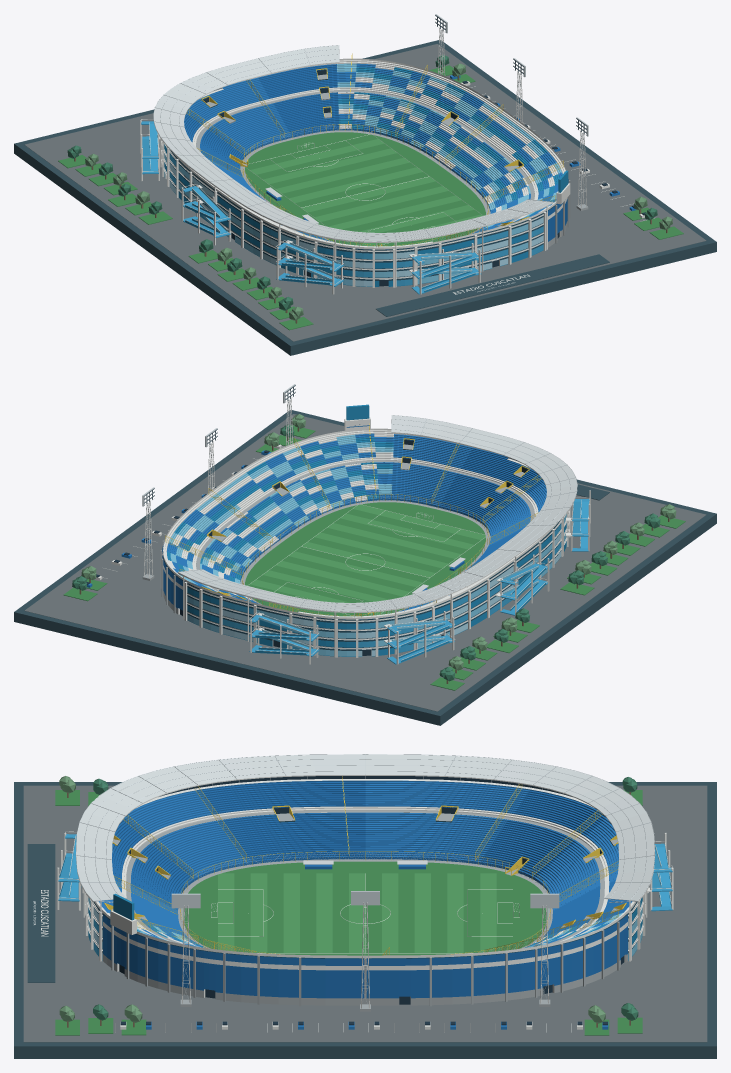
Rendered from cuscatlan-v5.glb.
3 views of the same model, one above another, from view 1: azimuth 30°, elevation 25°; view 2: azimuth 150°, elevation 25°; view 3: azimuth 270°, elevation 25° (orthographic). The views are drawn at different scales.
Visible parts, largest first — view 1: Pavimento.001, Blanco cal.001, Cesped verde.001, Base maqueta.001, Azul alterno.001, Cubierta aluminio.001, Celeste claro, Cesped corte alterno.001, Celeste intenso, Azul Cuscatlan.001, Celeste medio, Acero claro.001 (+7 smaller); view 2: Pavimento.001, Blanco cal.001, Cesped verde.001, Base maqueta.001, Azul alterno.001, Cubierta aluminio.001, Cesped corte alterno.001, Celeste claro, Celeste intenso, Azul Cuscatlan.001, Celeste medio, Acero claro.001 (+7 smaller); view 3: Pavimento.001, Azul Cuscatlan.001, Base maqueta.001, Azul alterno.001, Cesped verde.001, Cubierta aluminio.001, Blanco cal.001, Cesped corte alterno.001, Hormigon.001, Acero claro.001, Pasillos amarillos.001, Azul profundo.001 (+6 smaller).
Boxes of the visible parts, left/top/right/bottom form: Pavimento.001: left=24, top=44, right=706, bottom=341; Blanco cal.001: left=140, top=27, right=654, bottom=294; Cesped verde.001: left=58, top=65, right=683, bottom=330; Base maqueta.001: left=14, top=40, right=716, bottom=355; Azul alterno.001: left=187, top=63, right=636, bottom=249; Cubierta aluminio.001: left=153, top=45, right=551, bottom=292; Celeste claro: left=149, top=63, right=561, bottom=285; Cesped corte alterno.001: left=250, top=139, right=482, bottom=246; Celeste intenso: left=142, top=67, right=568, bottom=292; Azul Cuscatlan.001: left=184, top=64, right=568, bottom=249; Celeste medio: left=141, top=121, right=543, bottom=294; Acero claro.001: left=153, top=14, right=588, bottom=245; Pavimento.001: left=24, top=414, right=706, bottom=711; Blanco cal.001: left=95, top=397, right=590, bottom=664; Cesped verde.001: left=63, top=425, right=685, bottom=690; Base maqueta.001: left=14, top=410, right=716, bottom=725; Azul alterno.001: left=87, top=433, right=546, bottom=619; Cubierta aluminio.001: left=179, top=415, right=577, bottom=611; Cesped corte alterno.001: left=250, top=504, right=485, bottom=615; Celeste claro: left=169, top=434, right=581, bottom=656; Celeste intenso: left=167, top=404, right=589, bottom=662; Azul Cuscatlan.001: left=162, top=425, right=543, bottom=619; Celeste medio: left=222, top=499, right=589, bottom=664; Acero claro.001: left=142, top=384, right=577, bottom=615; Pavimento.001: left=23, top=785, right=707, bottom=1042; Azul Cuscatlan.001: left=103, top=780, right=632, bottom=998; Base maqueta.001: left=14, top=782, right=716, bottom=1058; Azul alterno.001: left=98, top=780, right=618, bottom=1029; Cesped verde.001: left=55, top=790, right=642, bottom=1035; Cubierta aluminio.001: left=33, top=754, right=654, bottom=924; Blanco cal.001: left=41, top=759, right=673, bottom=1032; Cesped corte alterno.001: left=218, top=873, right=496, bottom=952; Hormigon.001: left=103, top=810, right=627, bottom=1011; Acero claro.001: left=75, top=754, right=655, bottom=1006; Pasillos amarillos.001: left=104, top=776, right=626, bottom=955; Azul profundo.001: left=119, top=776, right=624, bottom=1025.
Size of the model in its own units: 227 by 52.35 by 255.
